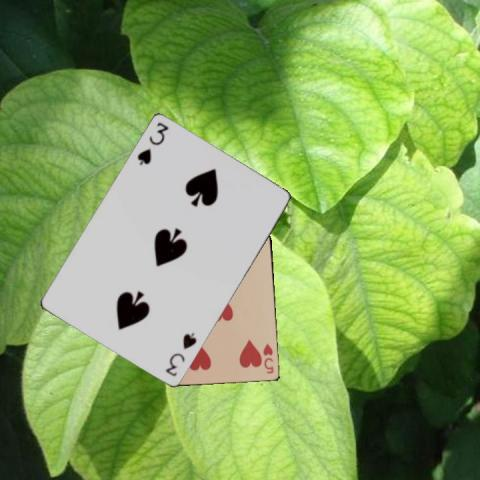3s: (162, 330, 198, 379), (134, 120, 170, 168)
5h: (260, 340, 274, 375)
